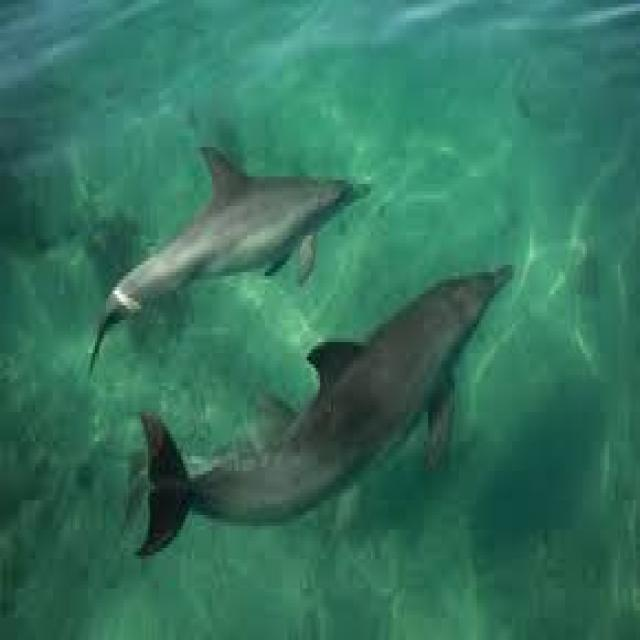dolphin: (92, 272, 526, 629), (86, 144, 364, 342)
